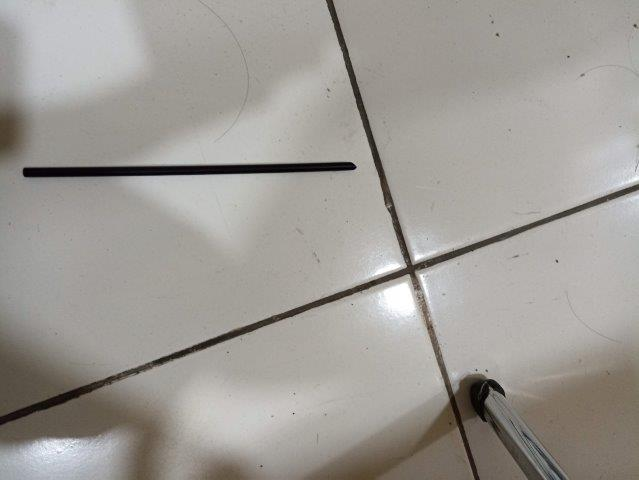sedotan: (23, 162, 356, 177)
